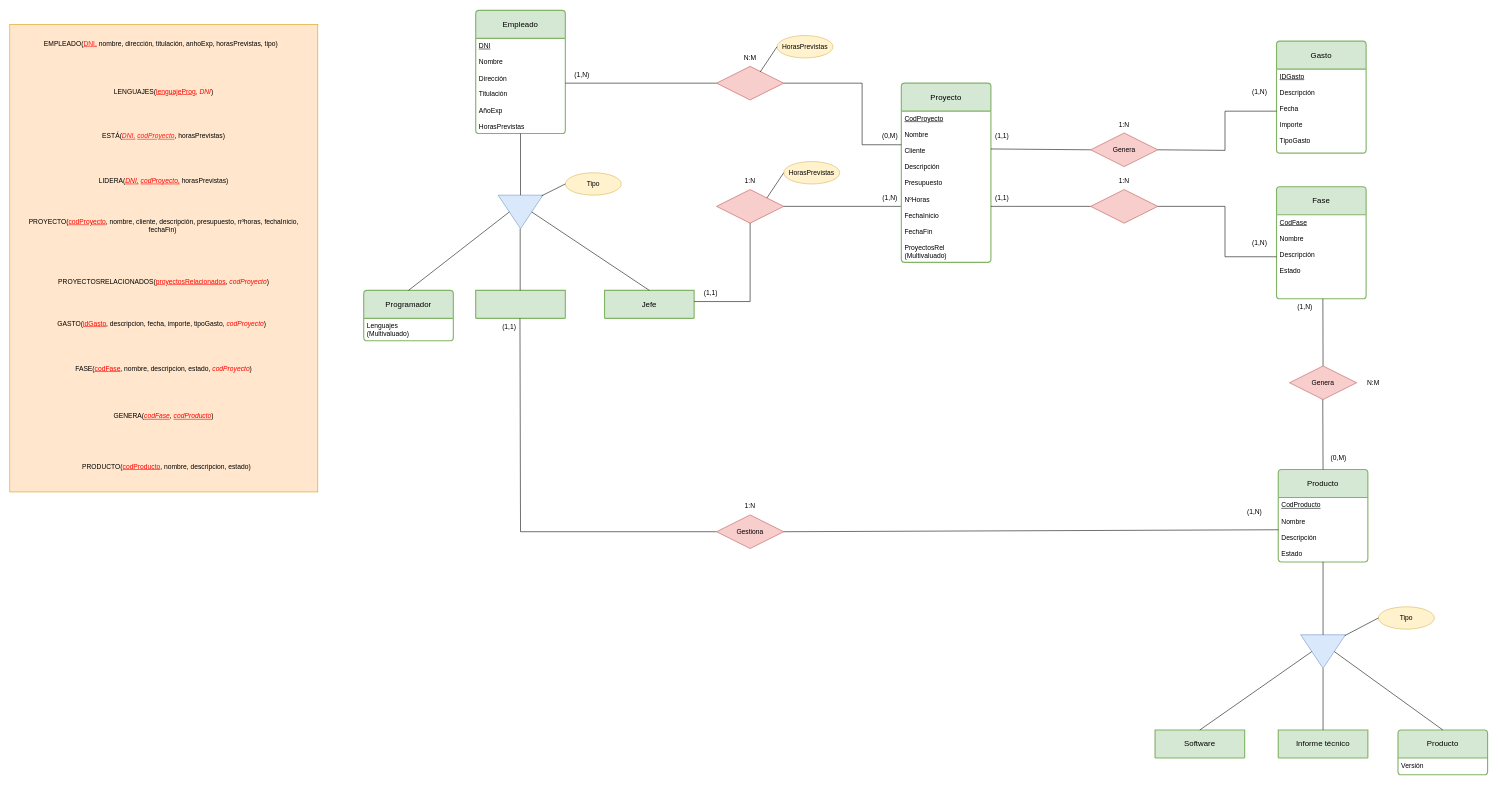
Some shapes in this 1498 by 785 pixel diagram are drawn without their labels. Each missing label, with the centre of its shape:
"Analista" belongs at pixel 520 304.
"Compone" belongs at pixel 1124 206.
"Está" belongs at pixel 750 83.
"Lidera" belongs at pixel 750 206.
